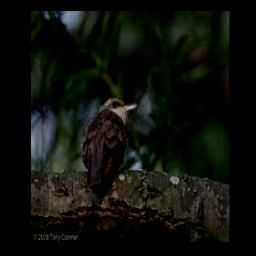Cuckoo: (81, 98, 137, 189)
